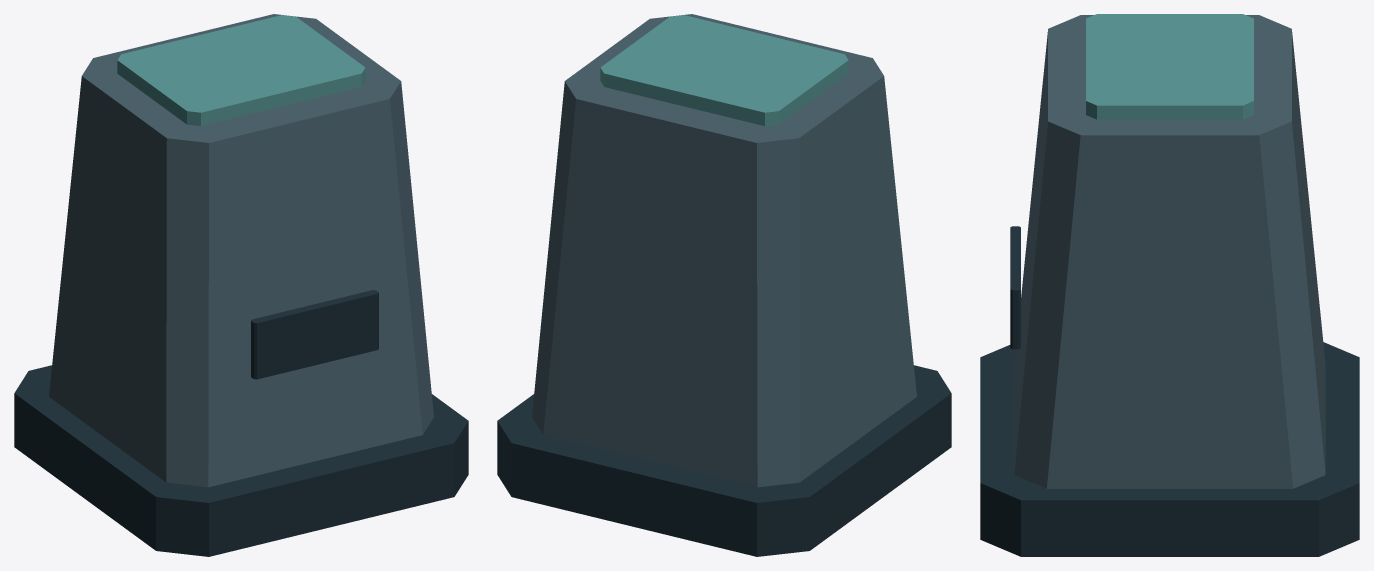
Rendered from terminal.glb.
3 renders of one model, left to right at view 1: azimuth 30°, elevation 25°; view 2: azimuth 150°, elevation 25°; view 3: azimuth 270°, elevation 25°, orthographic. The views are drawn at different scales.
Visible parts, largest first — view 1: terminal; view 2: terminal; view 3: terminal.
Boxes of the visible parts, box(x1,y1,x2,y2) form: terminal: box(14, 14, 468, 556); terminal: box(497, 14, 951, 556); terminal: box(980, 14, 1359, 556).
Bounding box in the file's own units: 1.4 × 1.7 × 1.4.
